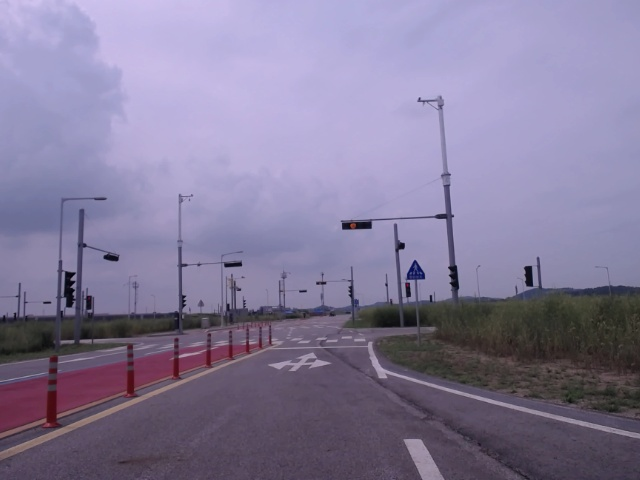orange_4: (339, 220, 375, 230), (315, 281, 328, 286)
